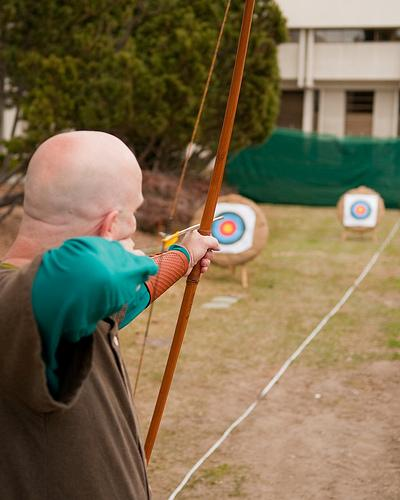person: (1, 131, 220, 500)
